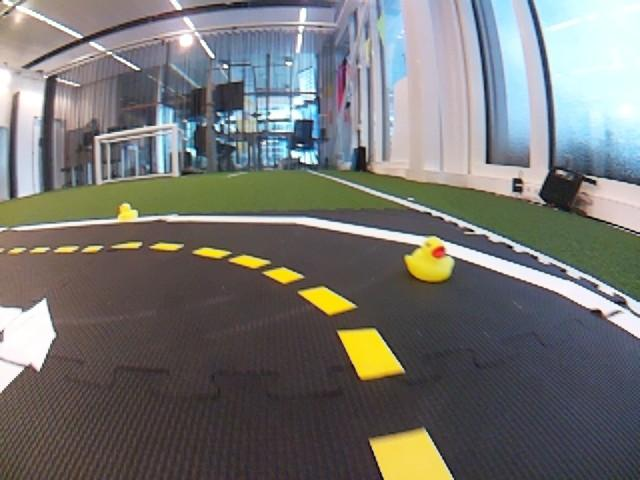Duckies: (404, 236, 455, 282), (119, 204, 139, 222)
